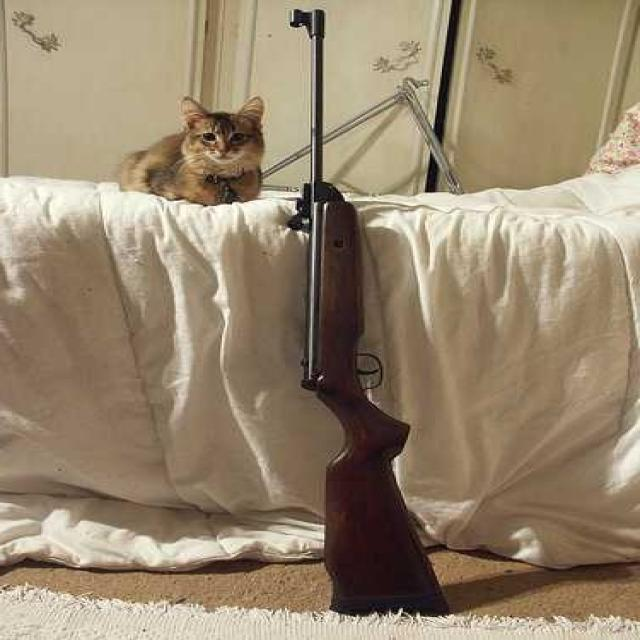heavyweapon: (255, 5, 455, 640)
